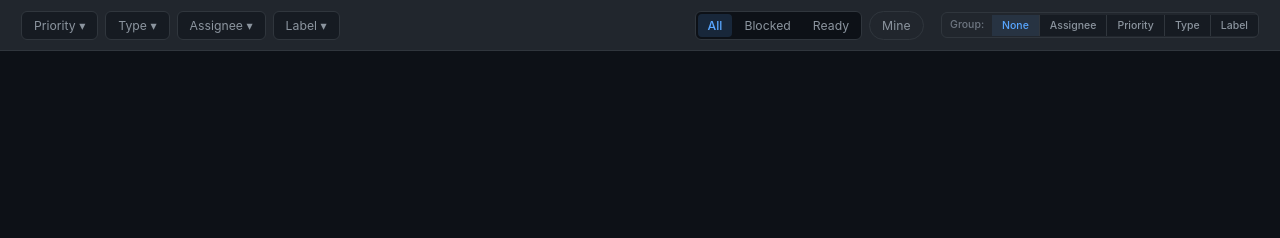
Test: FilterBar › opens priority dropdown when clicked
Click the button with class "filter-btn" showing "Priority ▾": {"x": 60, "y": 25} [21,10,98,40]
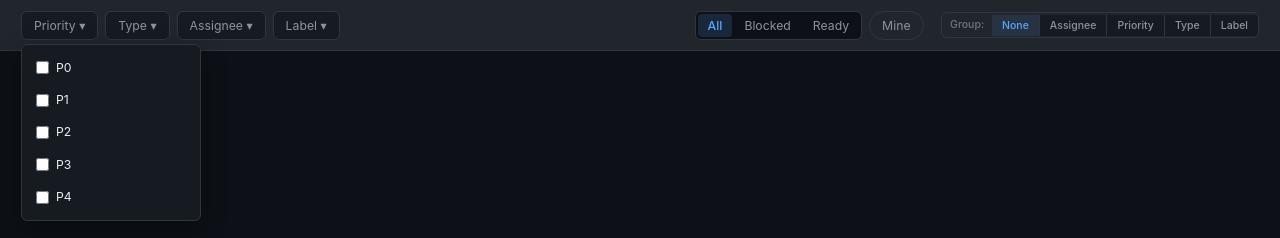
Expected: the text "P0" is shown, [56,58,72,77]
